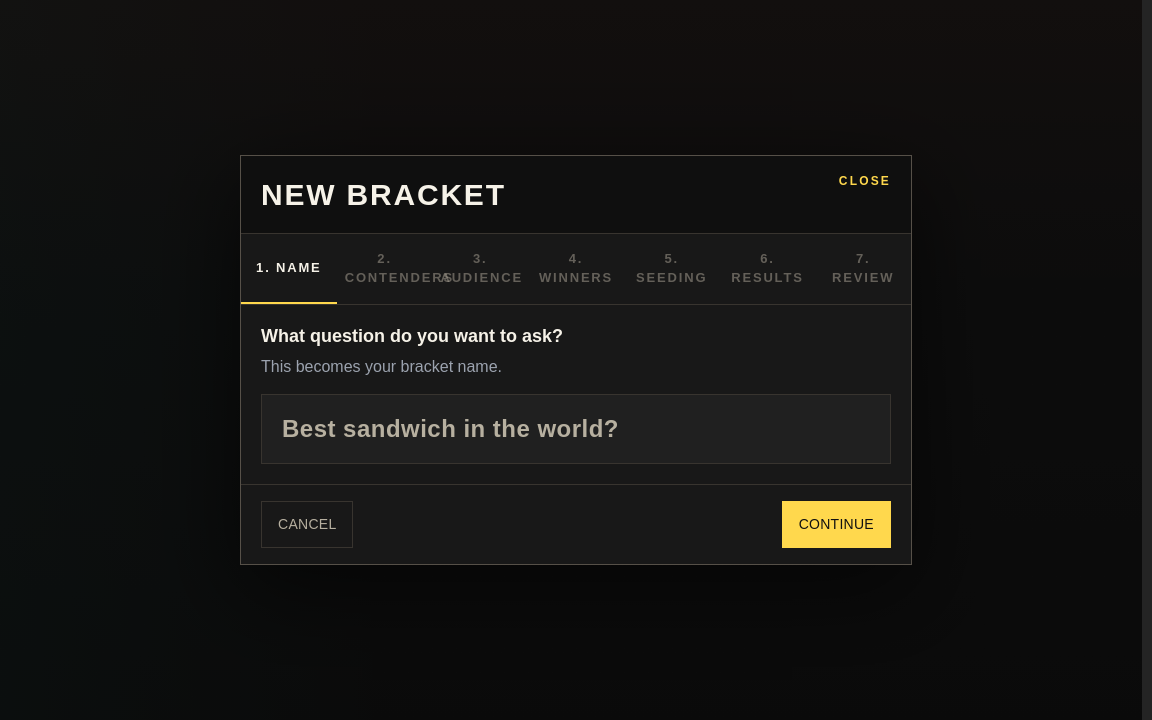
Test case: bracket configuration wizard › requires a bracket name before choosing contenders
The width and height of the screenshot is (1152, 720).
Click the button "Continue": (836, 524) x1=782 y1=501 x2=891 y2=548
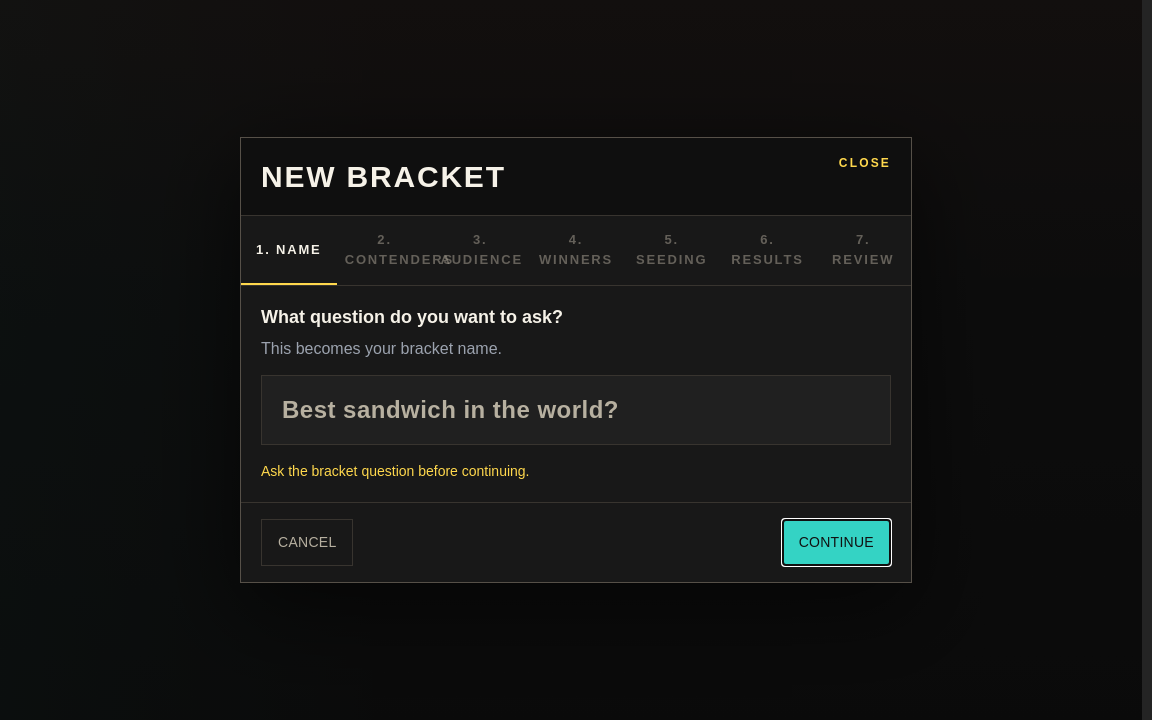
Check: the text "Ask the bracket question before continuing." is shown, box x1=261 y1=463 x2=530 y2=479
